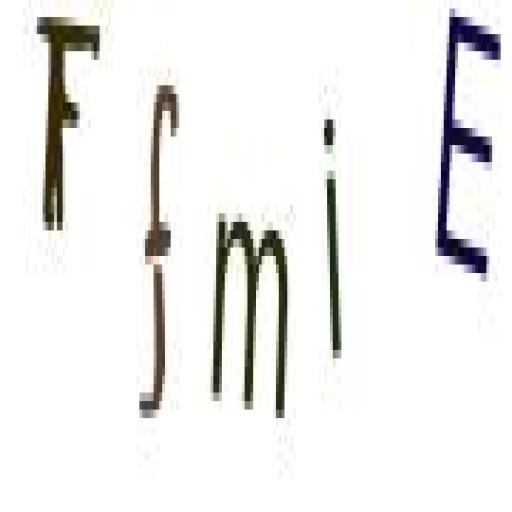E: (435, 5, 502, 293)
F: (30, 5, 106, 266)
f: (137, 64, 182, 446)
i: (314, 93, 353, 381)
m: (209, 190, 293, 457)
